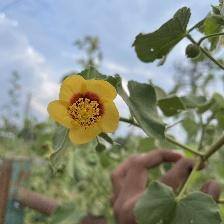indian mallow: (48, 75, 125, 146)
